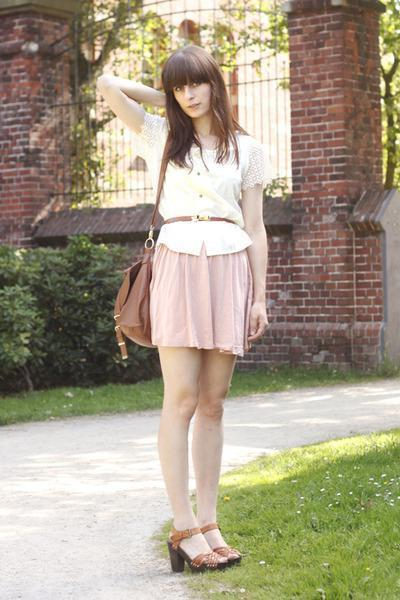short sleeve shirt: (135, 113, 269, 256)
skirt: (139, 227, 259, 357)
